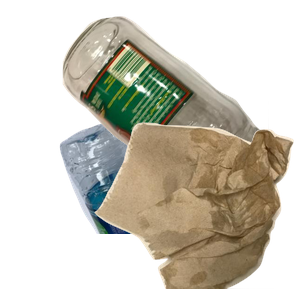glass: (60, 14, 300, 194)
metal: (99, 68, 244, 184)
plastic: (57, 120, 284, 300)
trash: (92, 120, 300, 300)
